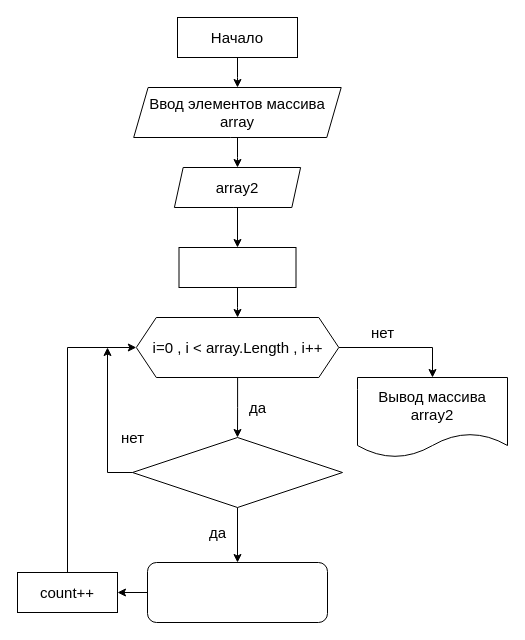
Image size: 525x640. Some labels were removed from this diagram. Here are the shapes that lost their labels. From the top down, the box of each, then its label:
(178, 246, 296, 288): count = 0
(132, 436, 342, 508): array[i].Length <= 3
(146, 562, 328, 622): array2 [count] = array[ i ]
